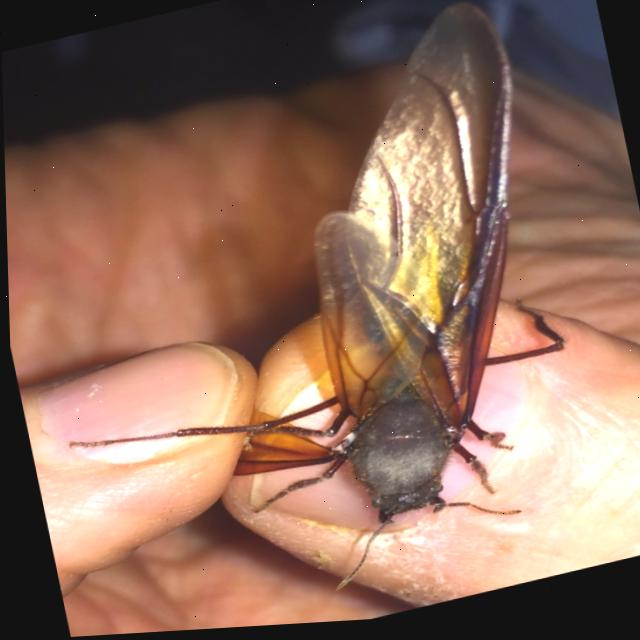Alive-Female-Alate: (1, 0, 607, 640)
